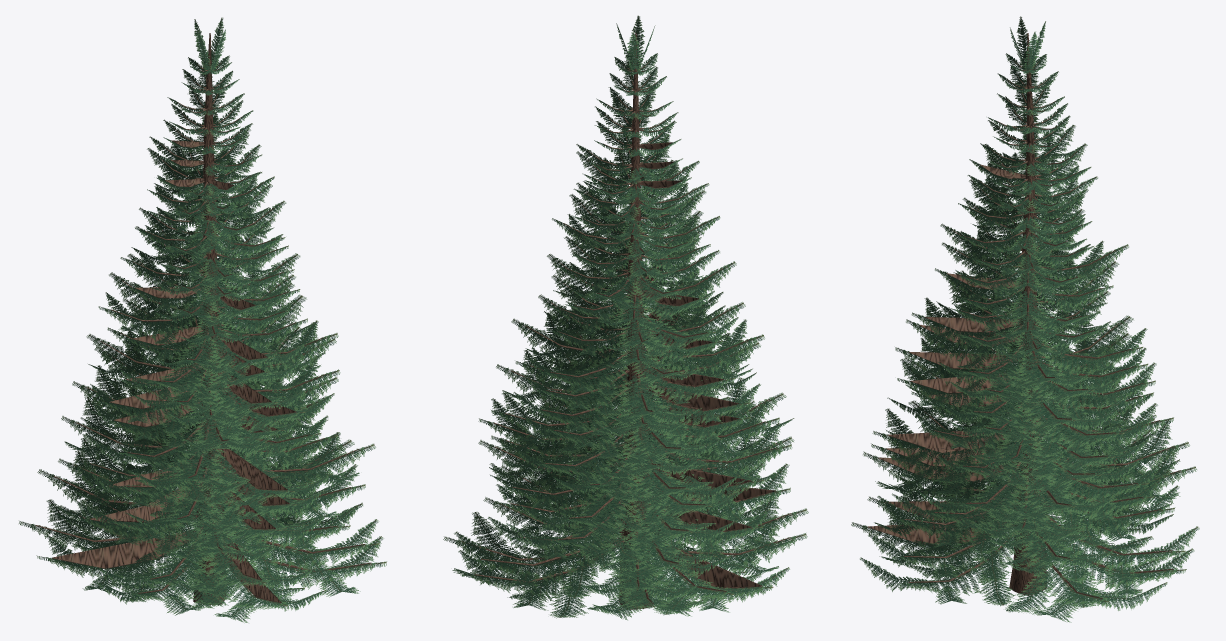
File: spruce.glb
3 views of the same model, side by side, from view 1: azimuth 30°, elevation 25°; view 2: azimuth 150°, elevation 25°; view 3: azimuth 270°, elevation 25° (orthographic). The views are drawn at different scales.
Visible parts, largest first — view 1: Needles, Needles_far, Trunk_far, Trunk; view 2: Needles, Needles_far, Trunk_far, Trunk; view 3: Needles, Needles_far, Trunk_far, Trunk.
Boxes of the visible parts, x1,y1,x2,y2 form: Needles: (19, 17, 386, 622); Needles_far: (71, 19, 347, 615); Trunk_far: (35, 37, 370, 603); Trunk: (52, 33, 369, 604); Needles: (443, 15, 808, 620); Needles_far: (490, 51, 773, 613); Trunk_far: (461, 61, 790, 603); Trunk: (462, 32, 791, 609); Needles: (851, 16, 1199, 622); Needles_far: (895, 21, 1161, 603); Trunk_far: (868, 44, 1180, 598); Trunk: (868, 33, 1180, 598).
Size of the model in its own units: 6.85 by 11.19 by 6.59.
2 materials, 2 textured.
